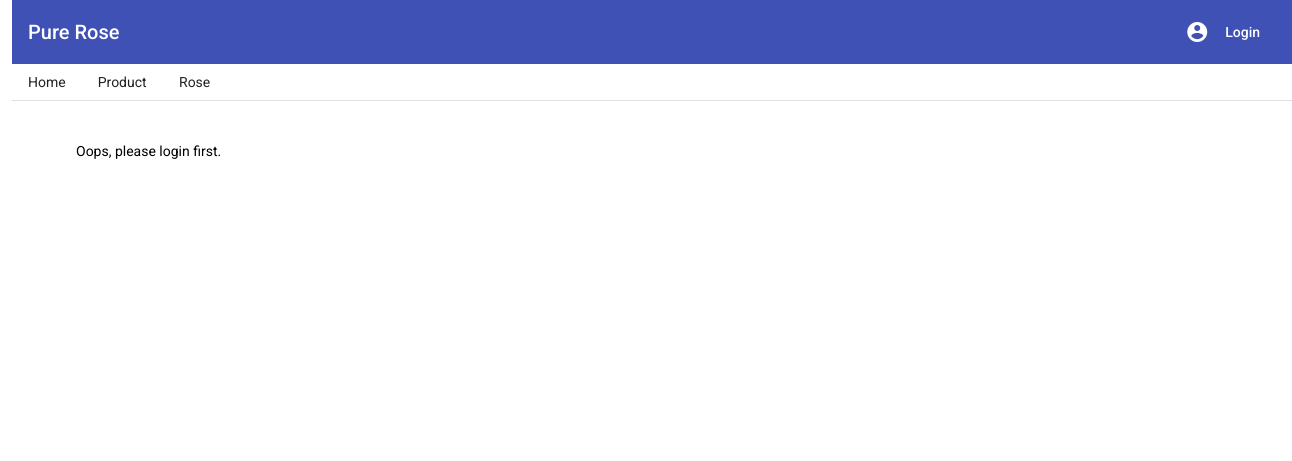
Login Test › Login test
Click the button with test id "login-button".
click(1243, 32)  # box [1209, 14, 1276, 50]
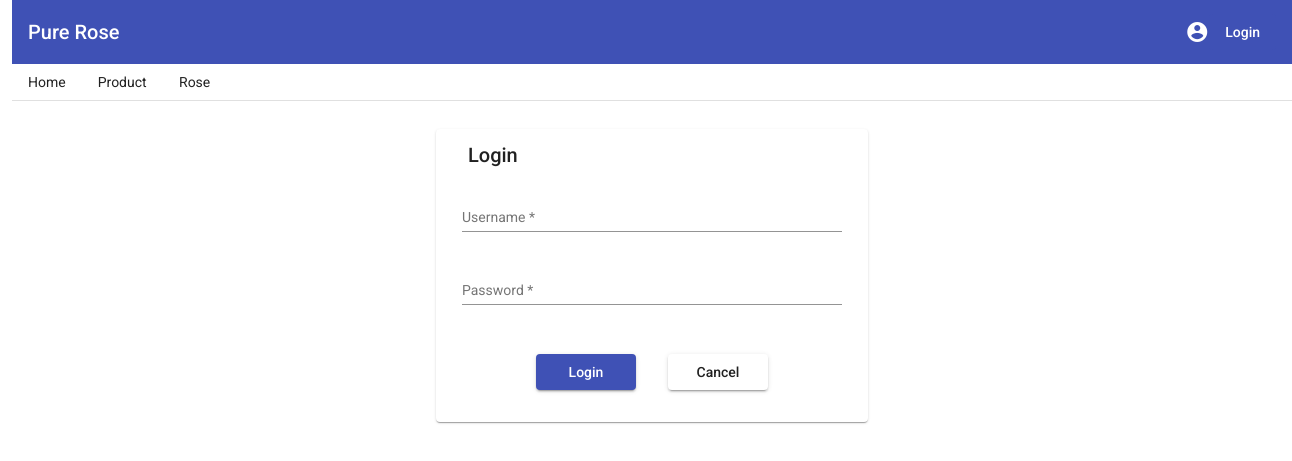
Type "Cypress" into the field with test id "input-username".
click(652, 218); type("Cypress")  # box [462, 210, 842, 226]
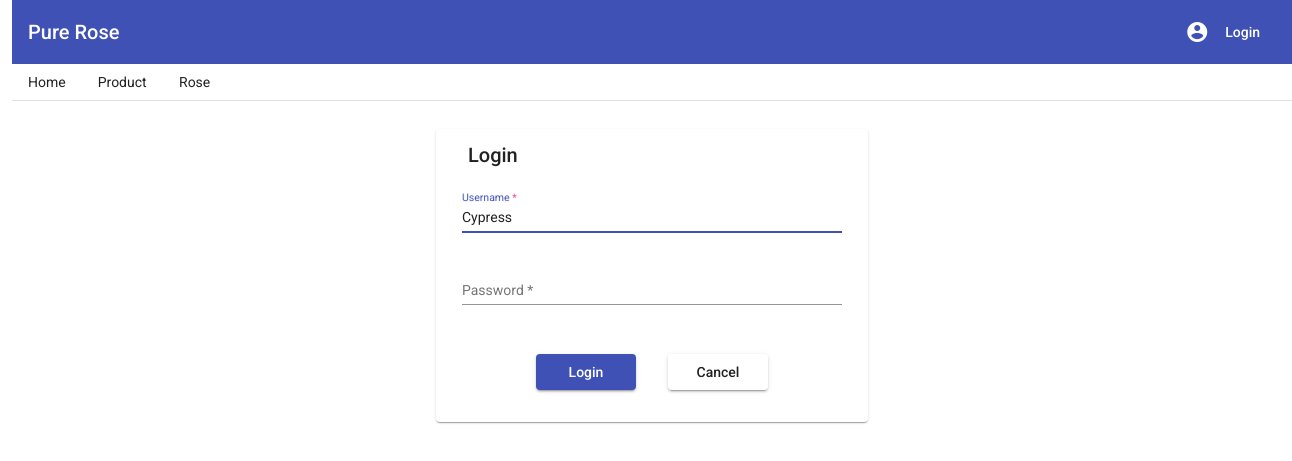
Type "randomValue" into the password field with test id "input-password".
click(652, 291); type("randomValue")  # box [462, 283, 842, 299]
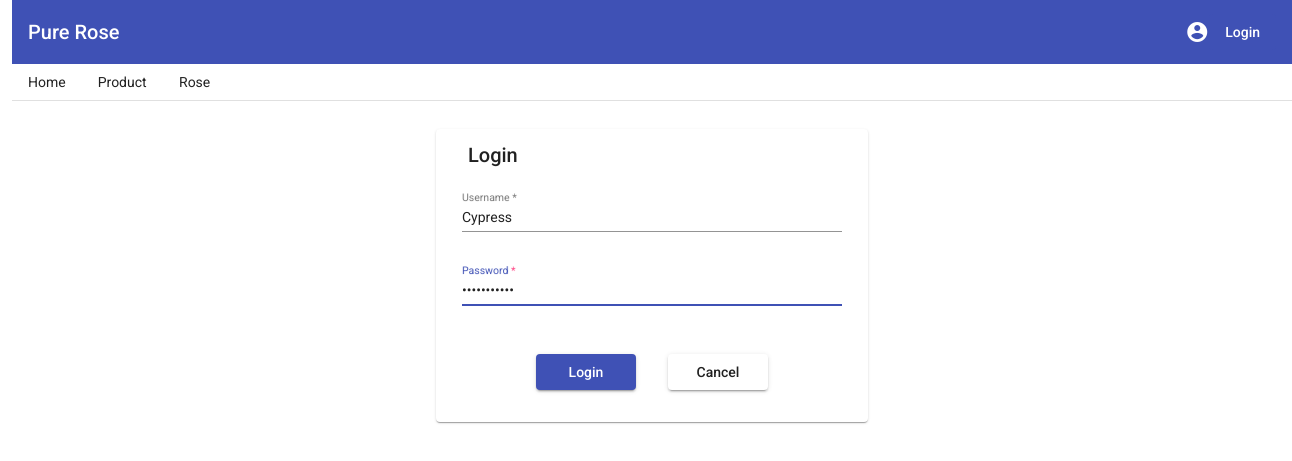
Click the button with test id "login-submit".
click(586, 372)  # box [536, 354, 636, 390]
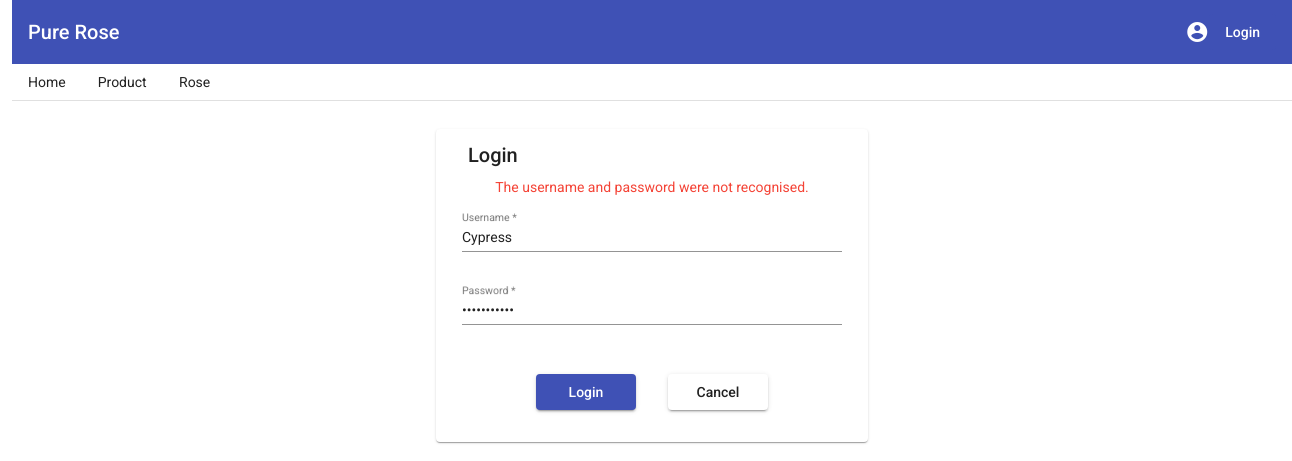
Check: the text "The username and password were not recognised." is shown, box [495, 179, 809, 195]
